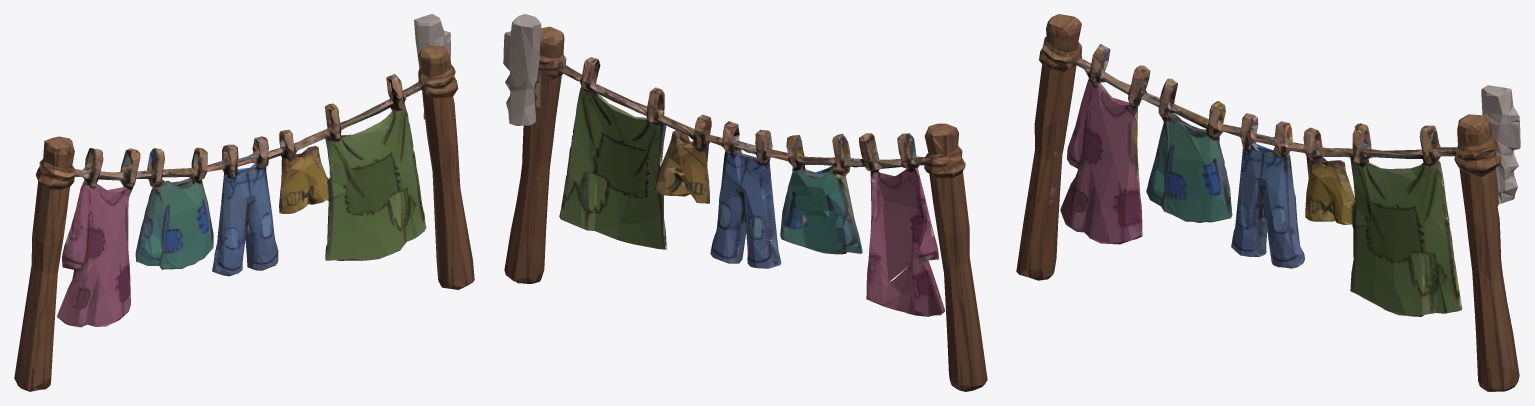
The model's file is laundry.glb.
3 views of the same model, side by side, from view 1: azimuth 30°, elevation 25°; view 2: azimuth 150°, elevation 25°; view 3: azimuth 330°, elevation 25° (orthographic). The views are drawn at different scales.
Parts seen in each view (by area): view 1: geometry_0; view 2: geometry_0; view 3: geometry_0.
Boxes of the visible parts, x1=… form: geometry_0: x1=14, y1=14, x2=474, y2=391; geometry_0: x1=503, y1=14, x2=987, y2=391; geometry_0: x1=1016, y1=14, x2=1520, y2=391.
Size of the model in its own units: 2.99 by 1.64 by 0.33.
Materials: 1 (1 with a texture image).
